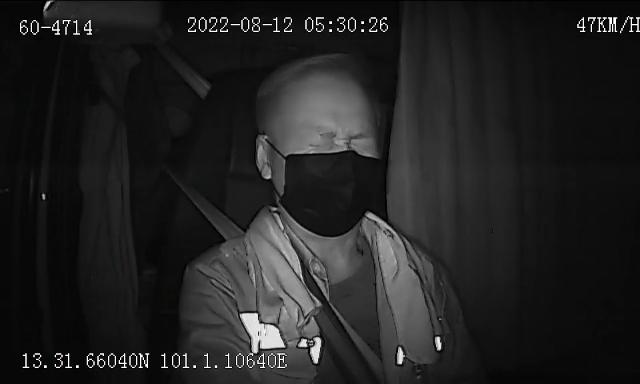Seatbelt: (191, 194, 385, 384)
